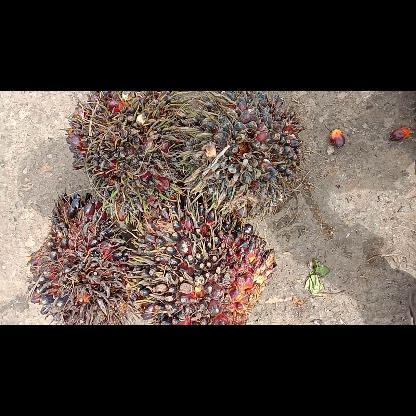TBS abnormal: (134, 206, 276, 324), (25, 192, 141, 324), (183, 91, 306, 212), (68, 90, 186, 196)
